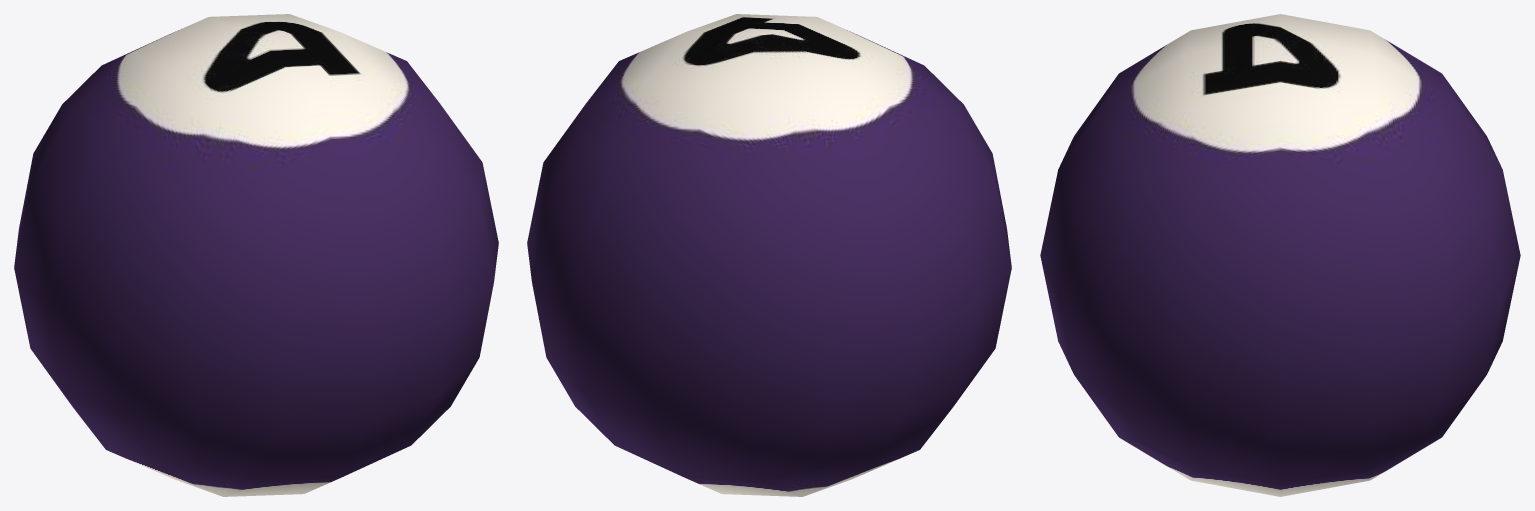
The model's file is ball_04.fbx.
3 views of the same model, side by side, from view 1: azimuth 30°, elevation 25°; view 2: azimuth 150°, elevation 25°; view 3: azimuth 270°, elevation 25° (orthographic).
Parts seen in each view (by area): view 1: BilliardBall.004; view 2: BilliardBall.004; view 3: BilliardBall.004.
Part boxes in pixels (bbox=[...]): BilliardBall.004: bbox=[14, 14, 498, 496]; BilliardBall.004: bbox=[527, 14, 1011, 496]; BilliardBall.004: bbox=[1040, 14, 1520, 496].
Size of the model in its own units: 0.0753 by 0.0753 by 0.0753.
